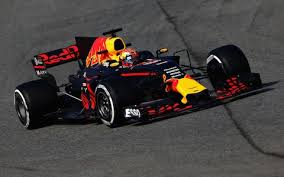FormulaOneCar: (12, 24, 275, 131)
